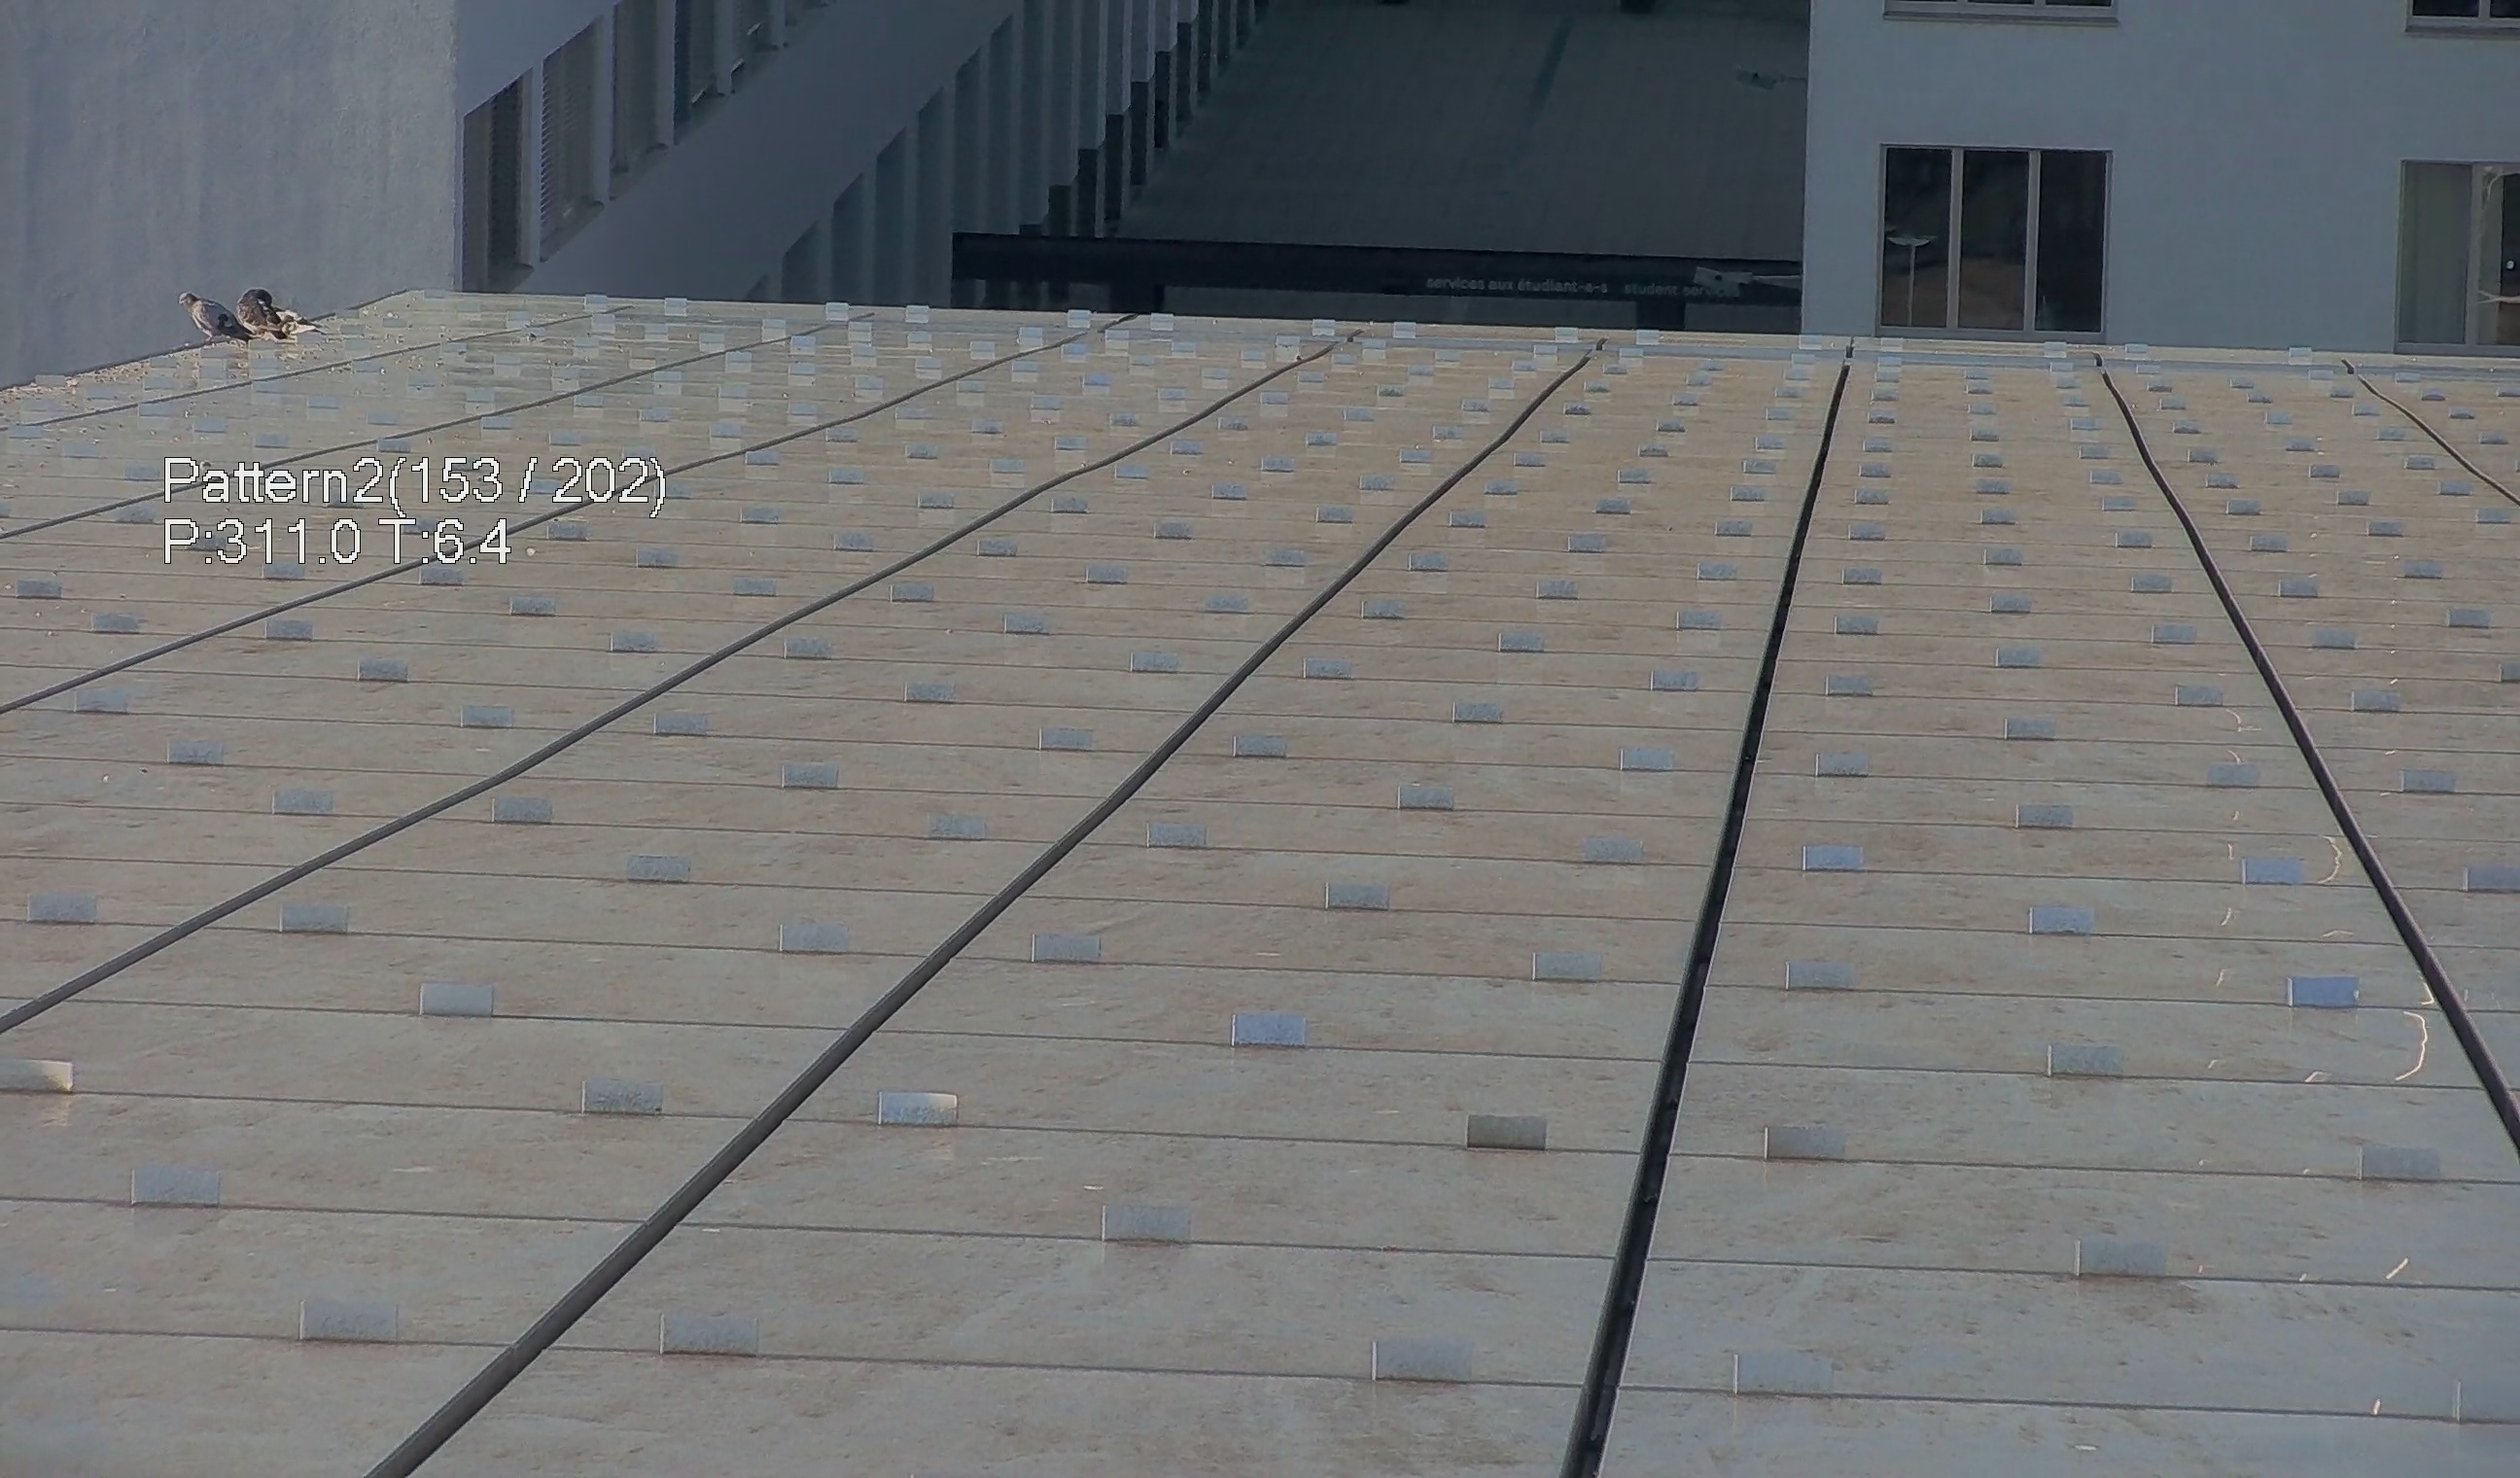Pigeon: (167, 287, 260, 357), (232, 287, 320, 343)
